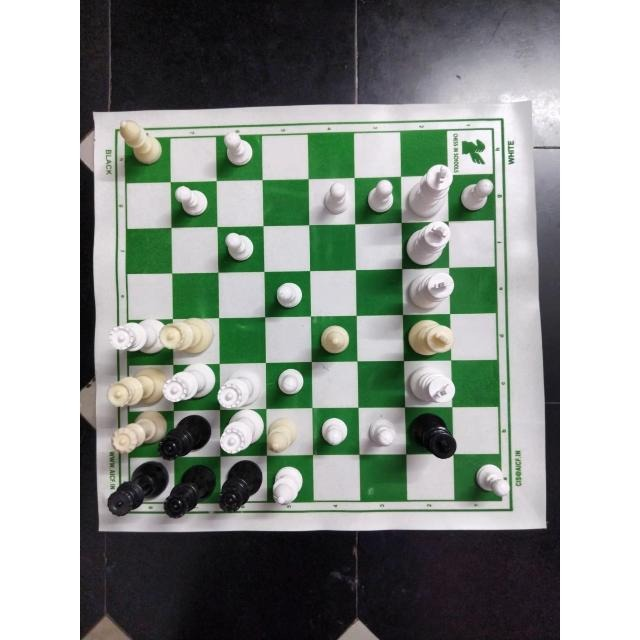black-king: (408, 411, 460, 460)
black-queen: (104, 460, 170, 517), (163, 463, 219, 520), (154, 414, 214, 462), (214, 460, 266, 513)
white-bishop: (114, 119, 165, 169), (262, 413, 307, 457), (270, 464, 308, 509), (315, 320, 355, 358)
white-king: (404, 161, 456, 221), (406, 362, 458, 408), (404, 315, 456, 358), (404, 221, 451, 267), (404, 270, 458, 310)
white-pawn: (469, 461, 513, 501), (216, 129, 257, 169), (457, 177, 500, 215), (217, 229, 260, 266), (173, 182, 213, 221), (315, 177, 354, 217), (362, 177, 399, 217), (314, 413, 350, 451), (364, 413, 400, 449), (267, 278, 306, 310), (274, 364, 308, 396)
white-queen: (104, 364, 168, 412), (108, 315, 168, 358), (161, 360, 217, 404), (108, 412, 168, 453), (218, 409, 266, 457), (157, 317, 215, 355), (215, 369, 263, 412)
